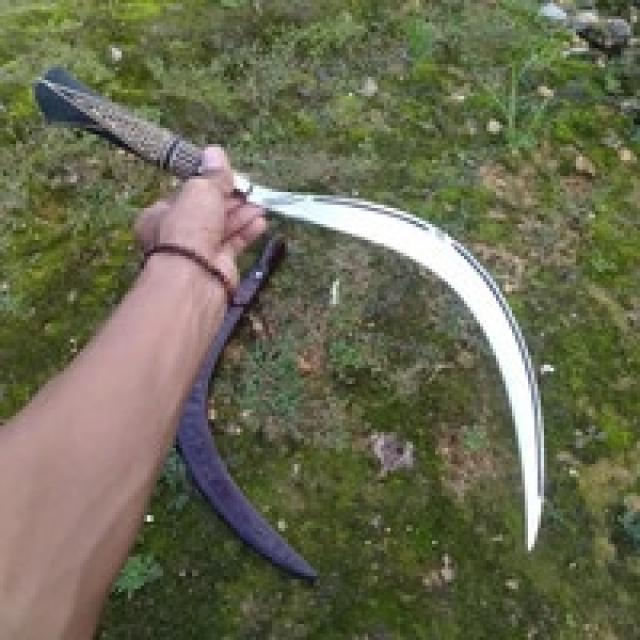Celurit: (35, 64, 550, 555)
